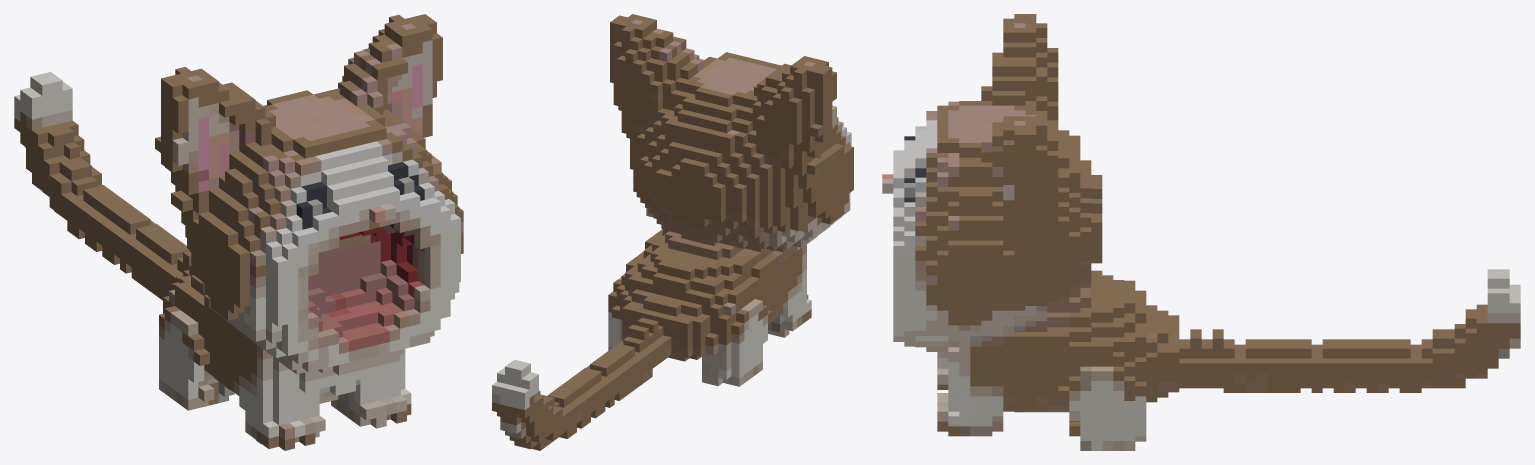
The model's file is popcat_voxel.glb.
The picture shows the model from 3 angles, left to right: view 1: azimuth 30°, elevation 25°; view 2: azimuth 150°, elevation 25°; view 3: azimuth 270°, elevation 25°; orthographic projection. The views are drawn at different scales.
Parts seen in each view (by area): view 1: world; view 2: world; view 3: world.
Part boxes in pixels (x1,y1,x2,y2): world: (14,14,463,450); world: (492,14,853,450); world: (882,14,1520,450).
Bounding box in the file's own units: 26 × 34 × 58.
